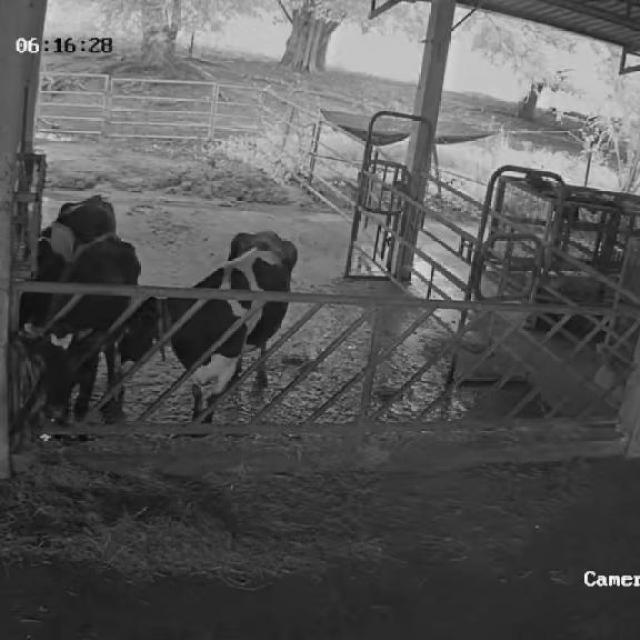standing: (108, 228, 302, 420), (21, 233, 139, 429), (7, 192, 116, 370)
